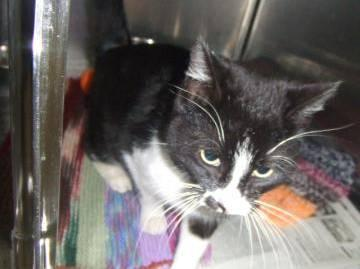cat: (82, 38, 358, 235)
